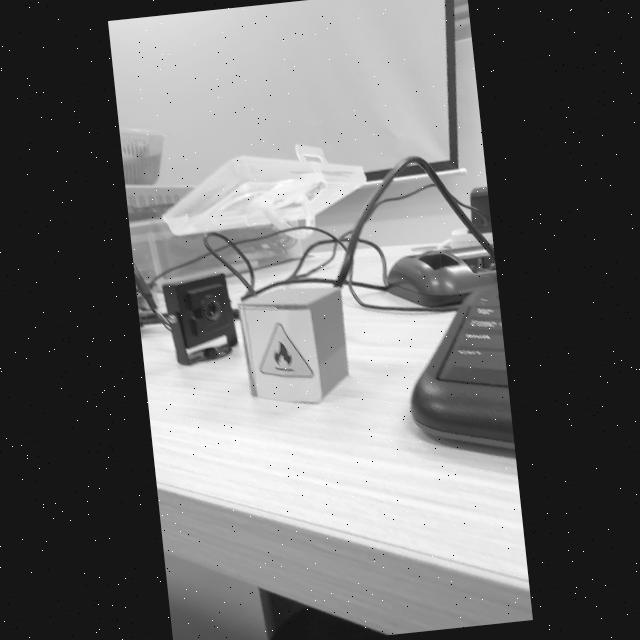Fire: (258, 321, 314, 380)
